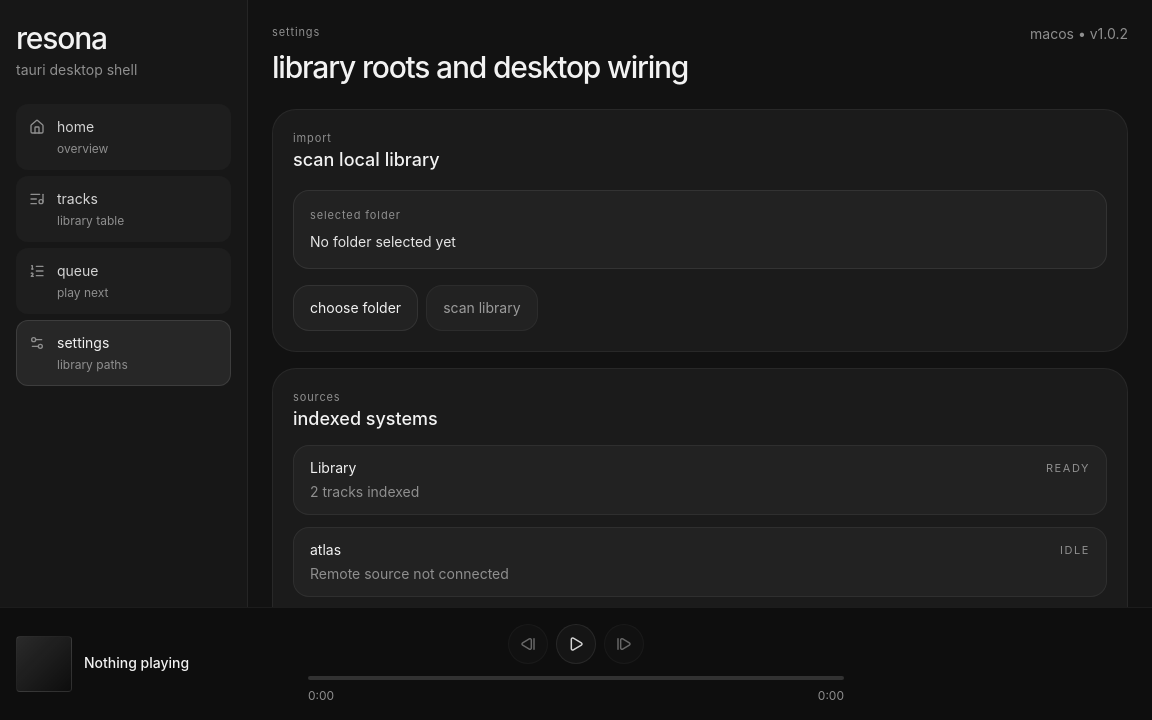
Test case: app shell smoke checks › replaces raw path typing with the folder picker flow
Click the button "choose folder": (356, 308) x1=293 y1=284 x2=418 y2=330
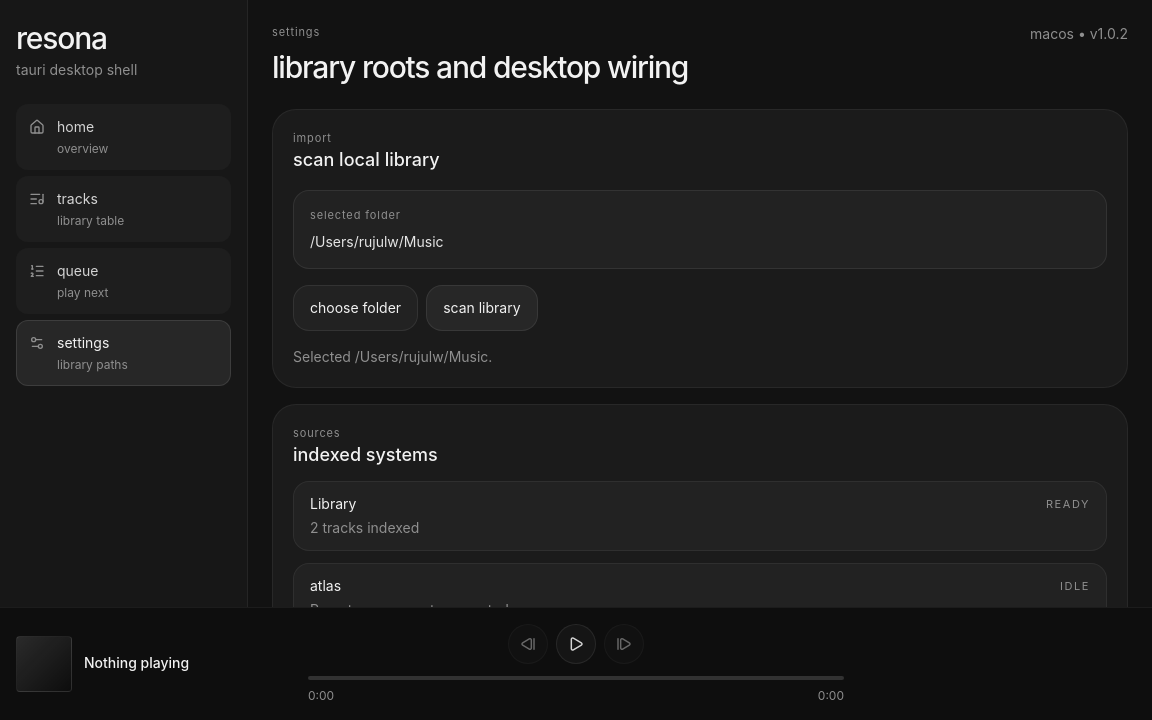
Expected: the button "scan library" is shown, x1=426 y1=284 x2=538 y2=330
Expected: the text "/Users/rujulw/Music" is shown, x1=310 y1=232 x2=444 y2=250
